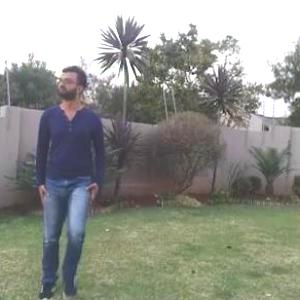follow: (28, 40, 111, 299)
